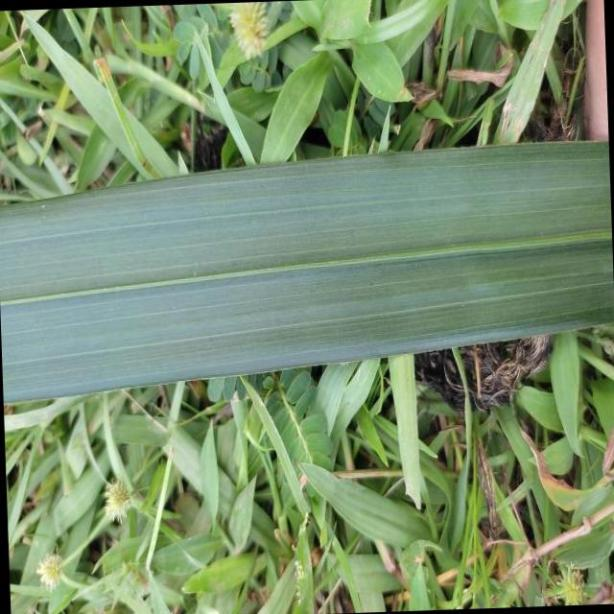Healthy: (0, 142, 614, 402)
